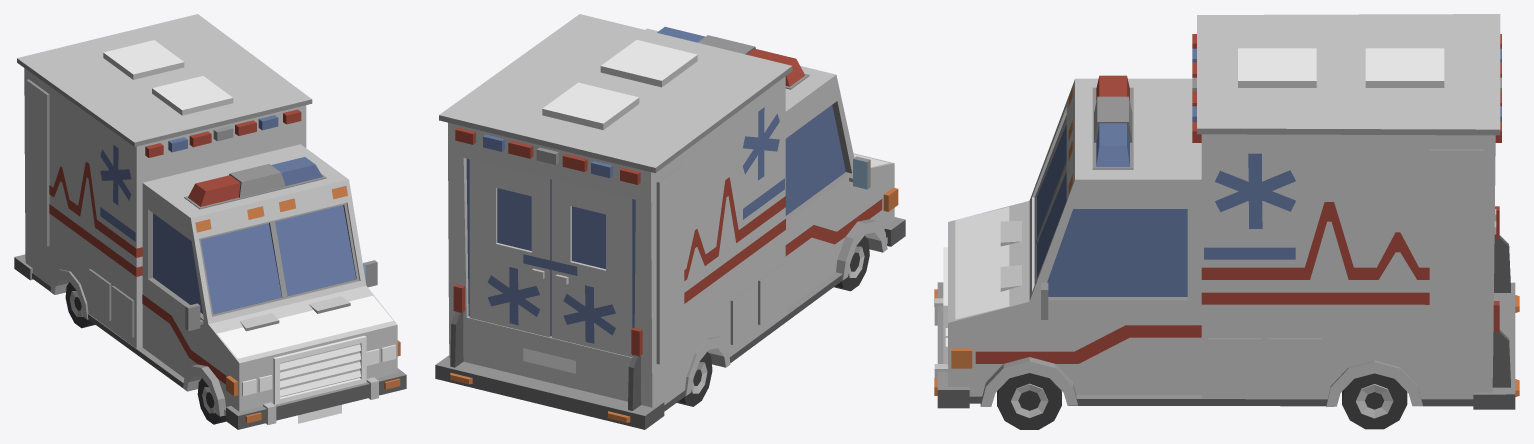
Rendered from transport_purpose_007.glb.
3 views of the same model, side by side, from view 1: azimuth 30°, elevation 25°; view 2: azimuth 150°, elevation 25°; view 3: azimuth 270°, elevation 25° (orthographic). The views are drawn at different scales.
Visible parts, largest first — view 1: transport_purpose_007; view 2: transport_purpose_007; view 3: transport_purpose_007.
Part boxes in pixels (bbox=[...]): transport_purpose_007: bbox=[14, 14, 406, 429]; transport_purpose_007: bbox=[435, 14, 905, 429]; transport_purpose_007: bbox=[934, 14, 1519, 429].
Bounding box in the file's own units: 1.98 × 2.41 × 4.05.
1 material, 1 textured.
